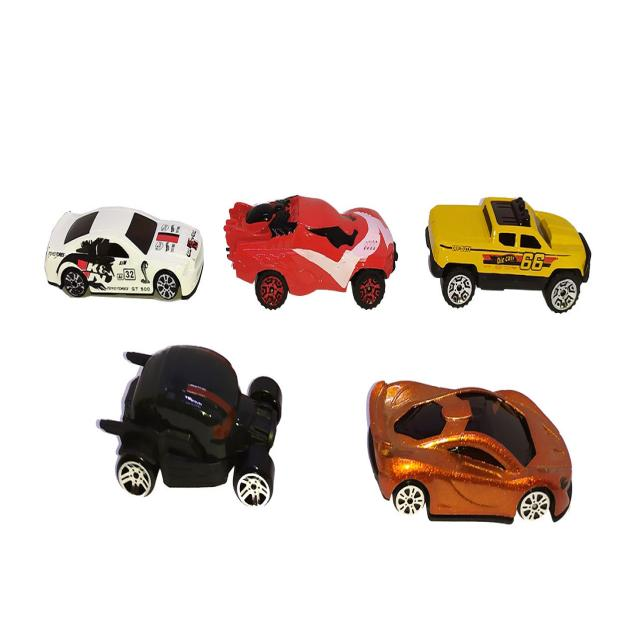Car: (96, 344, 282, 506), (366, 378, 572, 524), (224, 193, 398, 311), (425, 195, 591, 313), (44, 205, 203, 301)
